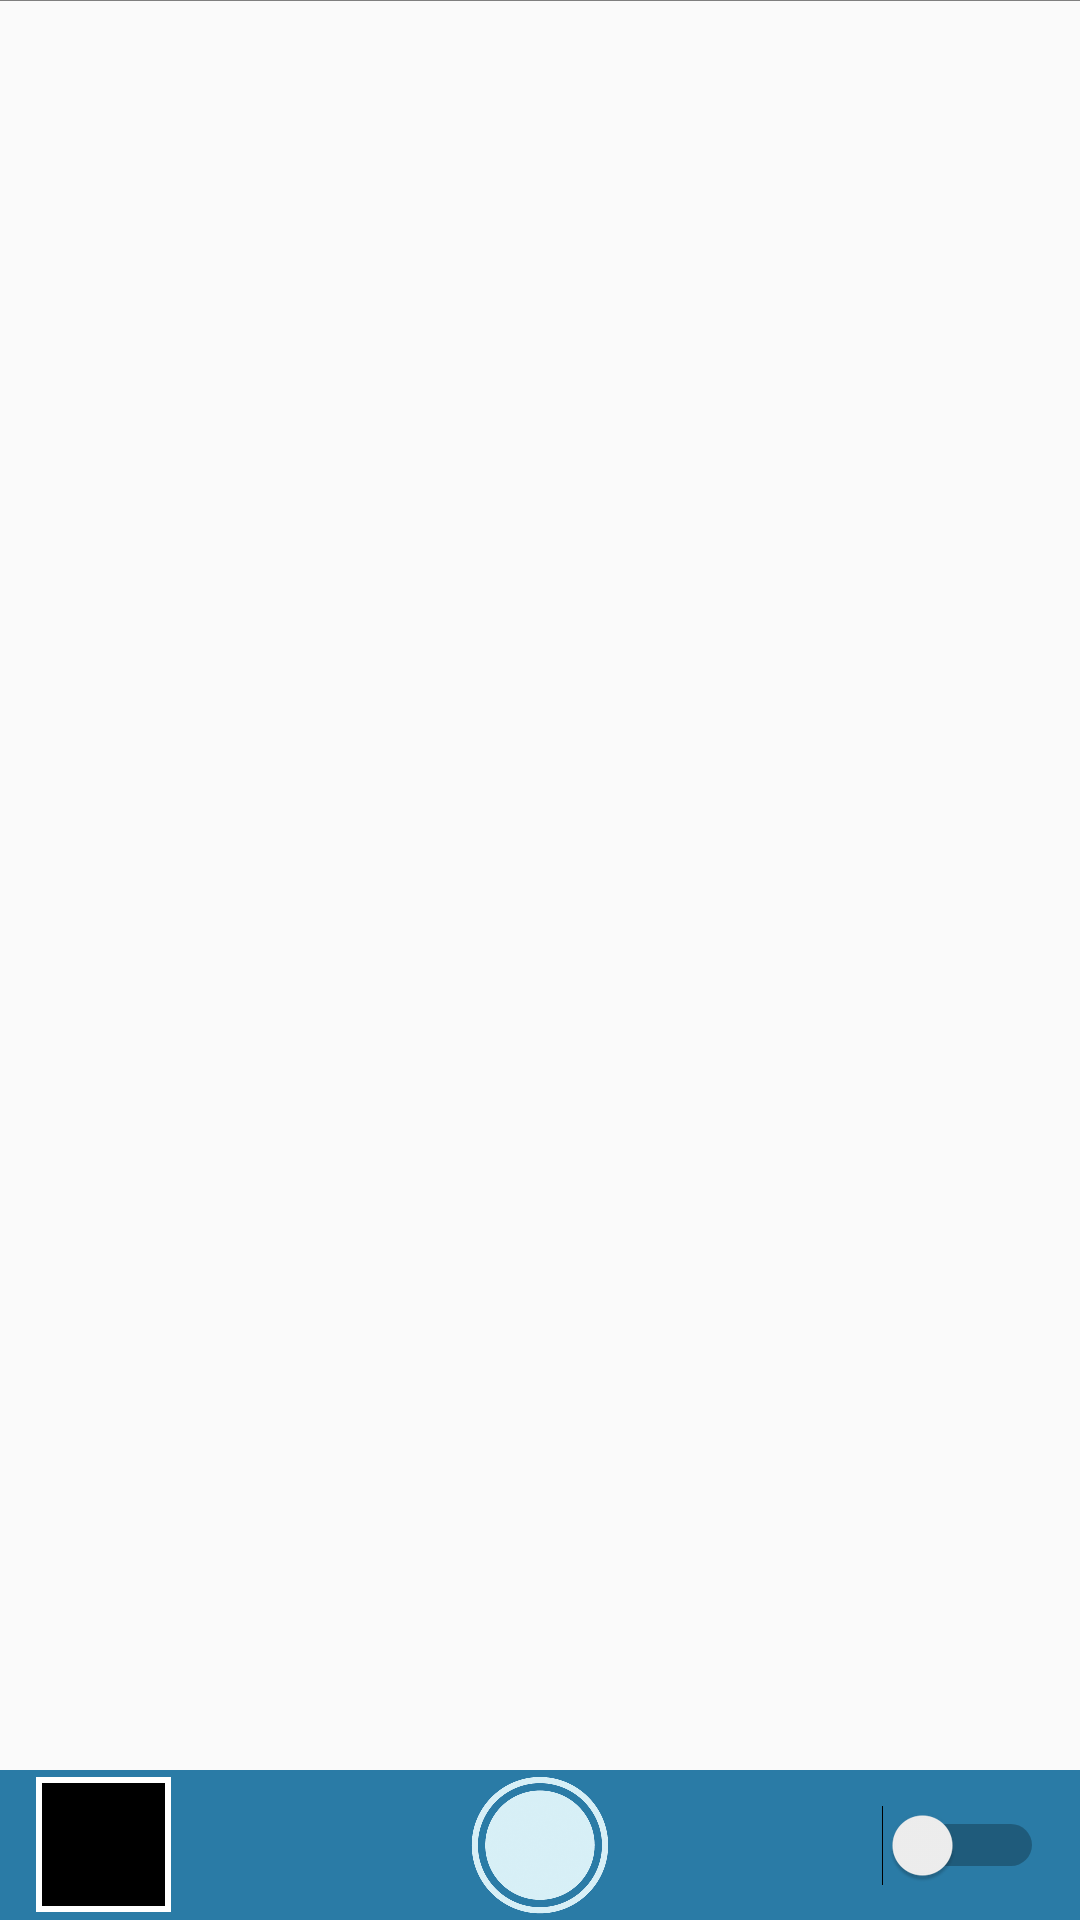

Named icons in this screenshot (1080*1920) and their bounding boxes, (x1, y1, x2, y2):
take photo: (472, 1777, 608, 1914)
